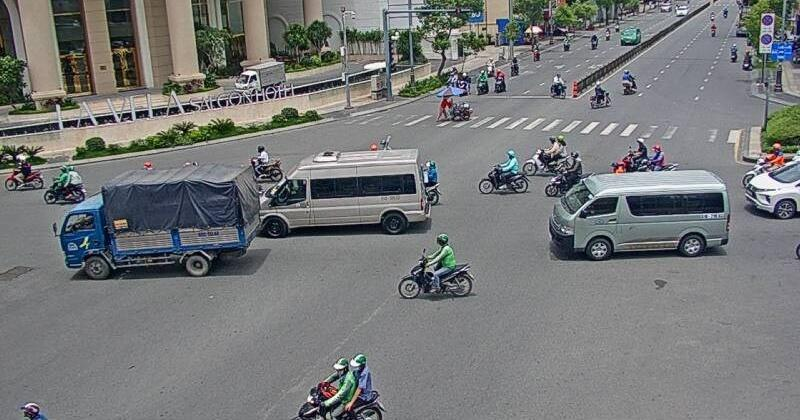xe may: (290, 352, 384, 420), (399, 232, 475, 298), (546, 150, 596, 197), (478, 149, 526, 197), (523, 134, 572, 176), (42, 165, 85, 202), (5, 159, 43, 190)
xe tai: (52, 166, 255, 277)
xe van: (546, 169, 725, 261), (255, 146, 430, 238)
